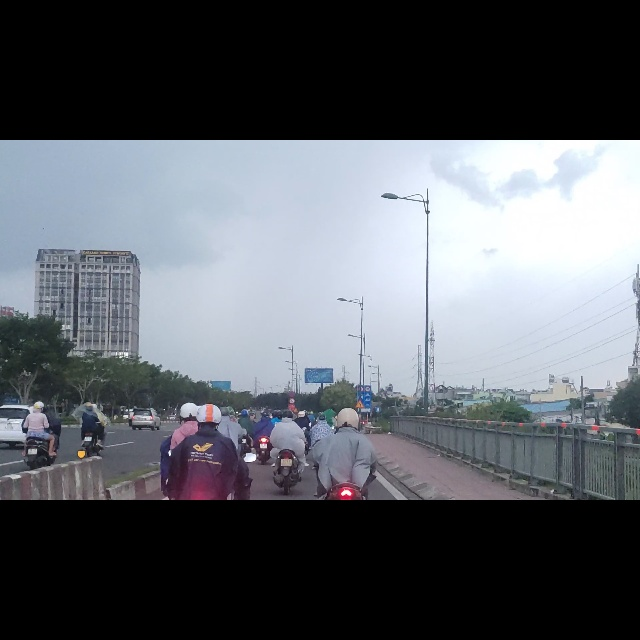bien_chi_dan: (355, 461, 364, 476), (365, 437, 370, 448)
